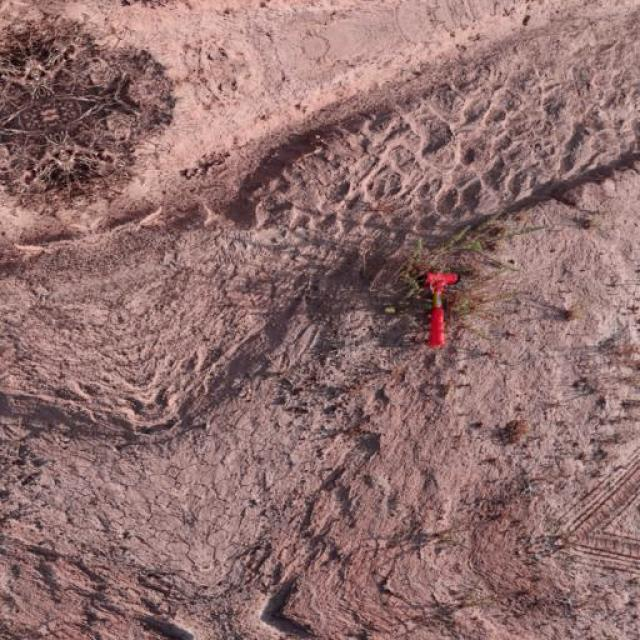mallet: (420, 270, 460, 348)
